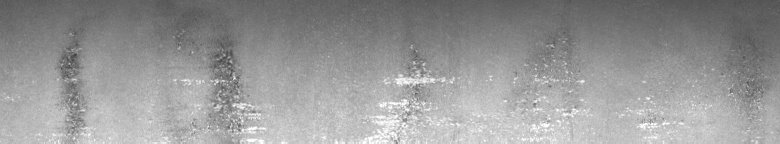hc: (174, 42, 266, 136)
